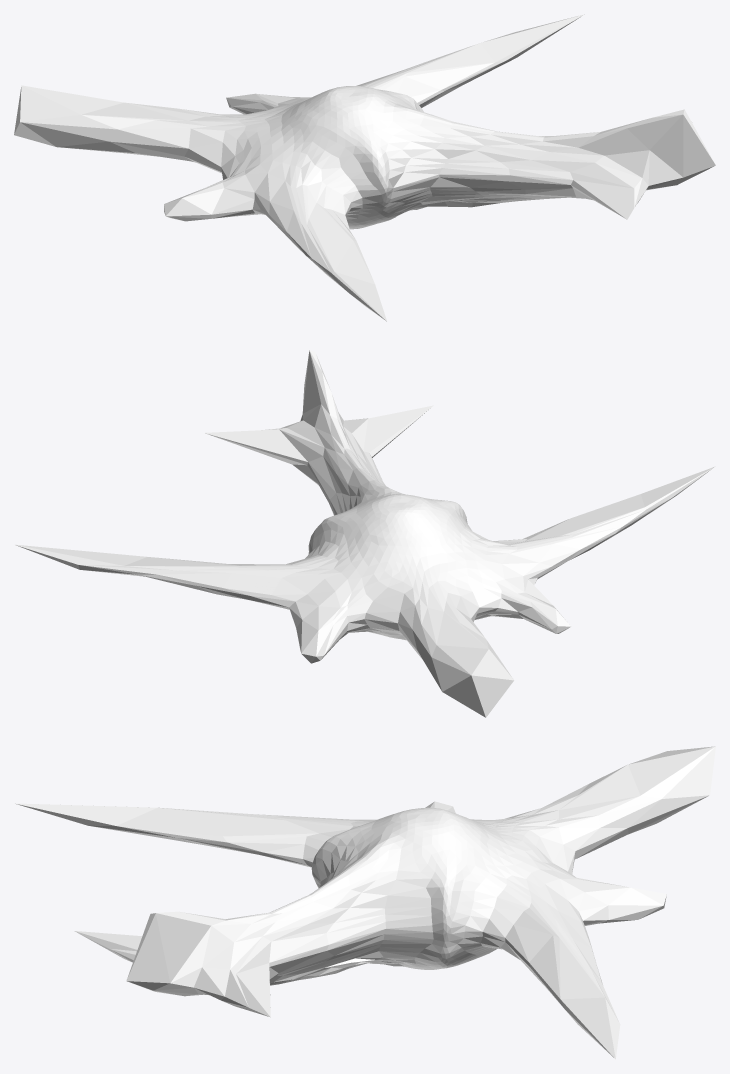
File: plane_rotZ45[0.3,0.0,0.3]s1[-1.7,0.0,-1.7]_00170.obj
3 views of the same model, one above another, from view 1: azimuth 30°, elevation 25°; view 2: azimuth 150°, elevation 25°; view 3: azimuth 270°, elevation 25° (orthographic). The views are drawn at different scales.
Size of the model in its own units: 1.33 by 0.3433 by 1.32.
1 material, 1 textured.
